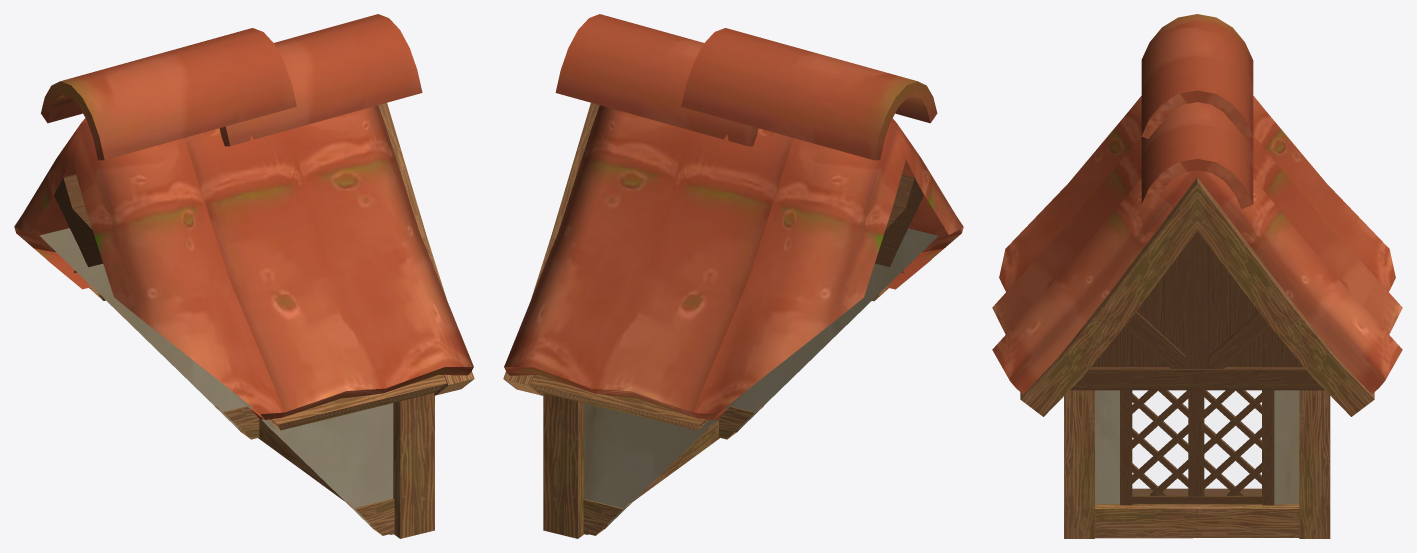
Rendered from Roof_Dormer_RoundTile.glb.
3 views of the same model, side by side, from view 1: azimuth 30°, elevation 25°; view 2: azimuth 150°, elevation 25°; view 3: azimuth 270°, elevation 25° (orthographic). The views are drawn at different scales.
Visible parts, largest first — view 1: Roof_Dormer_RoundTile; view 2: Roof_Dormer_RoundTile; view 3: Roof_Dormer_RoundTile.
Part boxes in pixels (x1=…): Roof_Dormer_RoundTile: x1=14, y1=14, x2=474, y2=538; Roof_Dormer_RoundTile: x1=503, y1=14, x2=963, y2=538; Roof_Dormer_RoundTile: x1=992, y1=14, x2=1402, y2=538.
Bounding box in the file's own units: 1.97 × 2.67 × 2.44.
4 materials, 3 textured.
